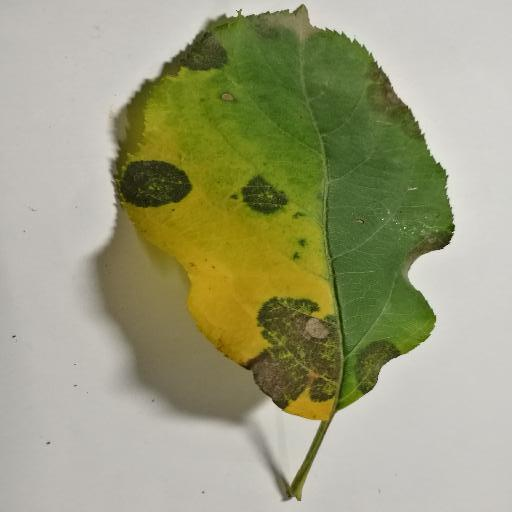Brown_Spot: (254, 288, 341, 393), (112, 163, 194, 201), (239, 178, 299, 218), (168, 36, 225, 74), (355, 339, 390, 389)
